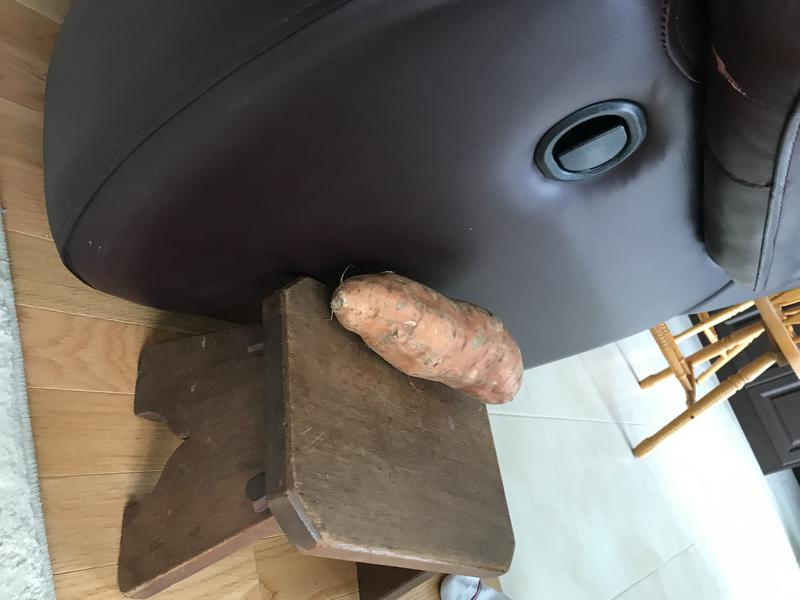sweet_potato: (319, 253, 534, 416)
